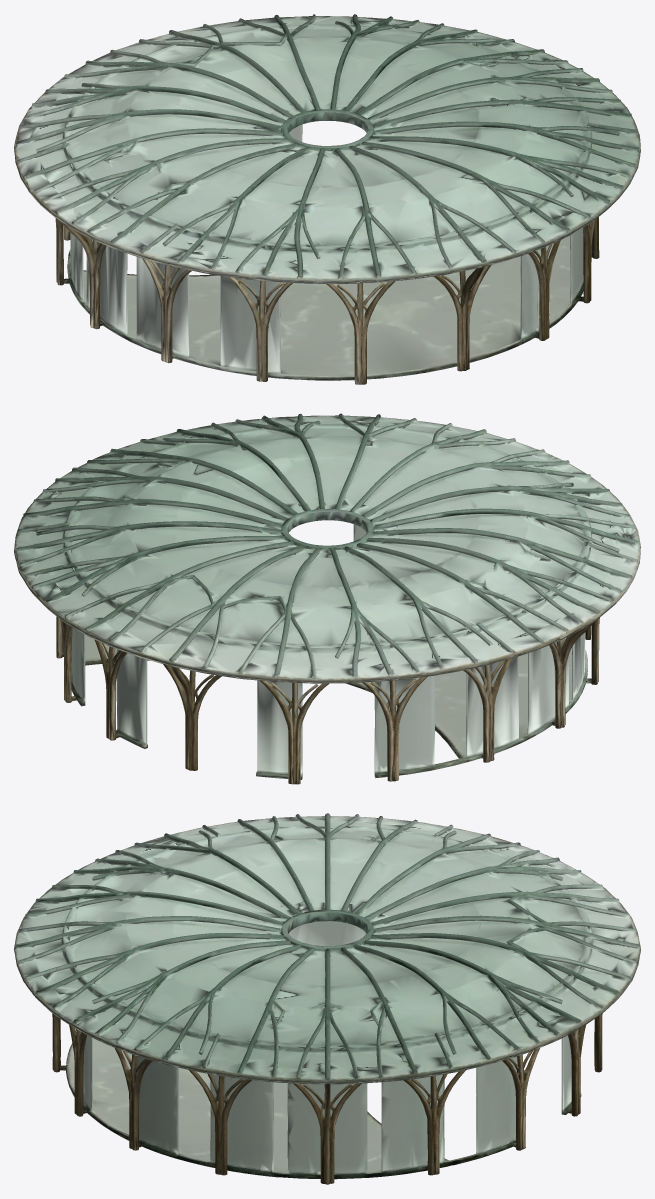
Rendered from expo.glb.
3 renders of one model, top to bottom at view 1: azimuth 30°, elevation 25°; view 2: azimuth 150°, elevation 25°; view 3: azimuth 270°, elevation 25°, orthographic.
Visible parts, largest first — view 1: tripo_node_9ec6da4e-1353-473f-9373-48866ff1f78f; view 2: tripo_node_9ec6da4e-1353-473f-9373-48866ff1f78f; view 3: tripo_node_9ec6da4e-1353-473f-9373-48866ff1f78f.
Boxes of the visible parts, <box> form: tripo_node_9ec6da4e-1353-473f-9373-48866ff1f78f: <box>14,14,640,384</box>; tripo_node_9ec6da4e-1353-473f-9373-48866ff1f78f: <box>14,413,640,784</box>; tripo_node_9ec6da4e-1353-473f-9373-48866ff1f78f: <box>14,813,640,1184</box>.
Size of the model in its own units: 0.9802 by 0.2656 by 0.9803.
1 material, 1 textured.
